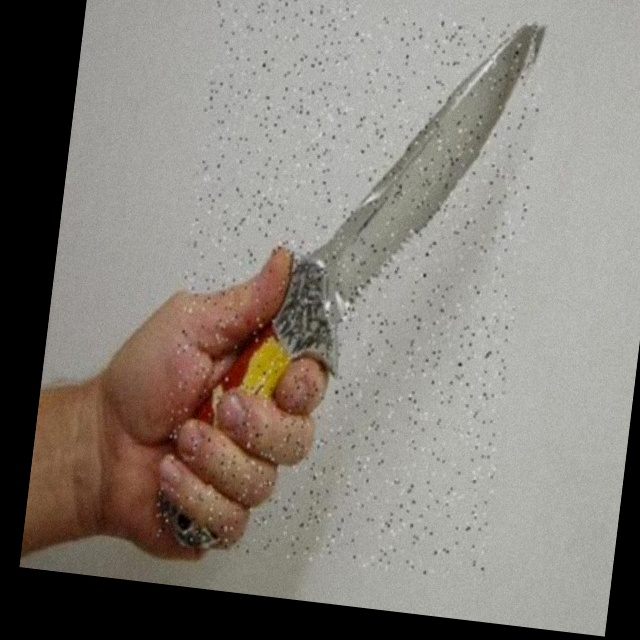Sharp-Object: (153, 0, 549, 580)
